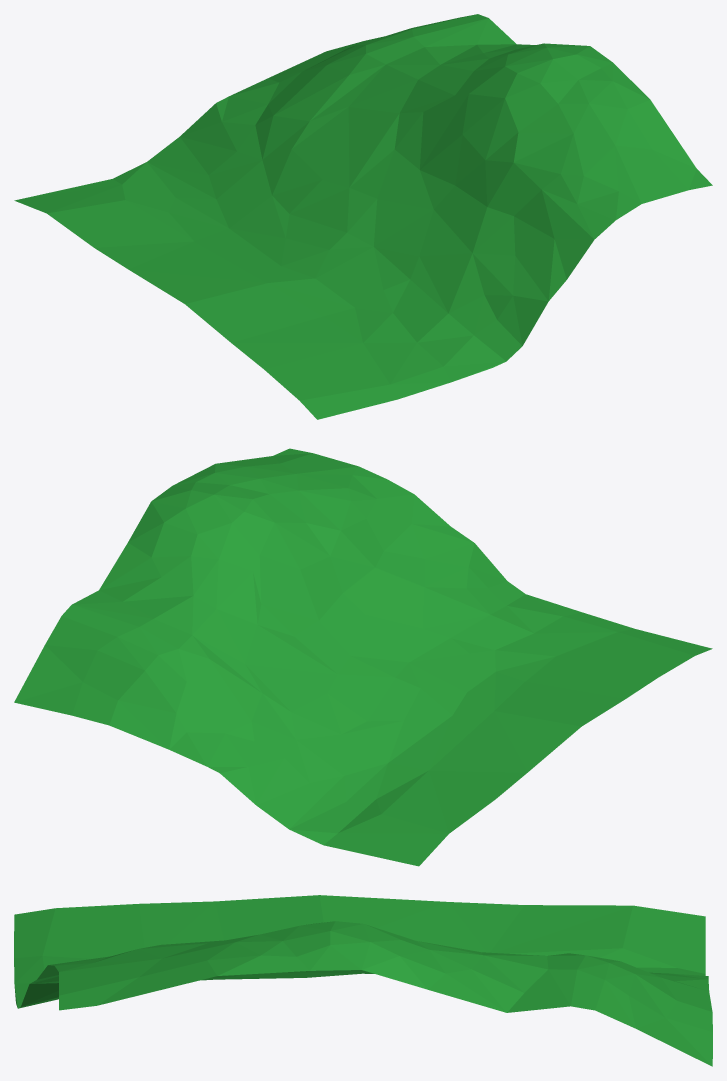
File: Field_L3.fbx
3 renders of one model, top to bottom at view 1: azimuth 30°, elevation 25°; view 2: azimuth 150°, elevation 25°; view 3: azimuth 270°, elevation 25°, orthographic. The views are drawn at different scales.
Visible parts, largest first — view 1: L3; view 2: L3; view 3: L3.
Boxes of the visible parts, x1,y1,x2,y2 form: L3: [14, 14, 712, 419]; L3: [14, 448, 712, 866]; L3: [14, 895, 712, 1066].
Bounding box in the file's own units: 2562 × 990 × 3183.
